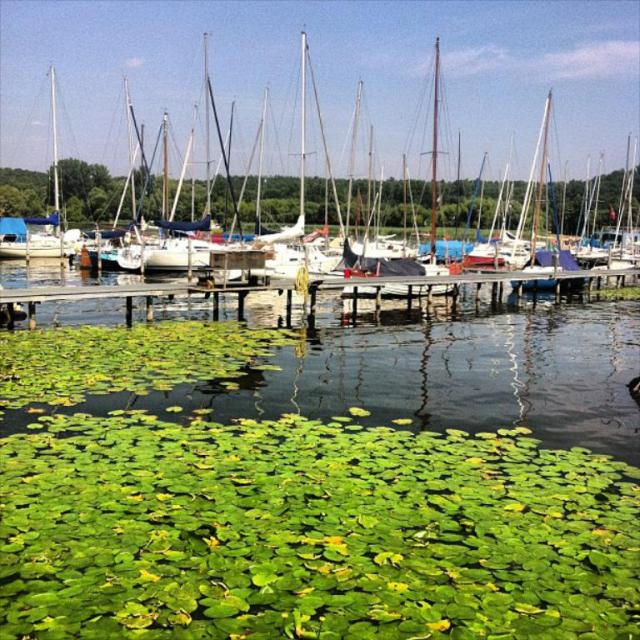Boat: (0, 26, 639, 297), (142, 27, 254, 279)
